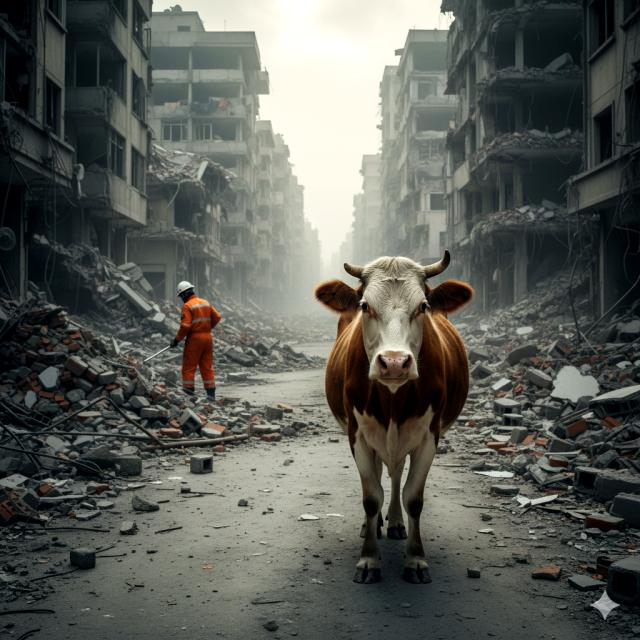cow: (303, 240, 481, 596)
rescuer: (159, 272, 233, 422)
